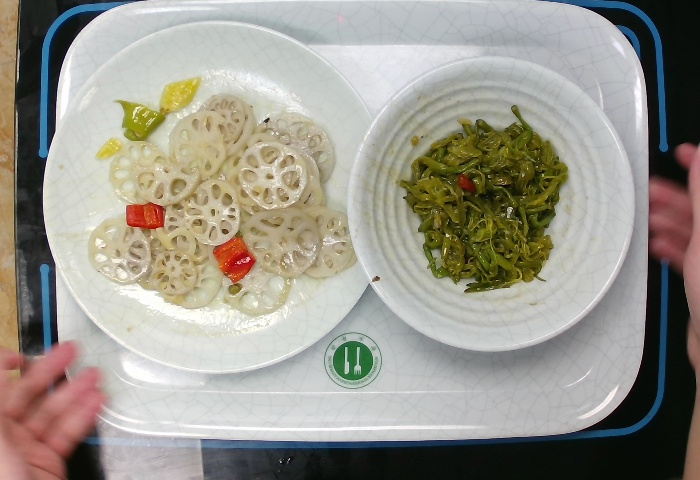JYsf-Da_Yuan_Pan: (37, 17, 383, 378)
JYsf-Xiao_Tang_Wan: (343, 52, 641, 355)
